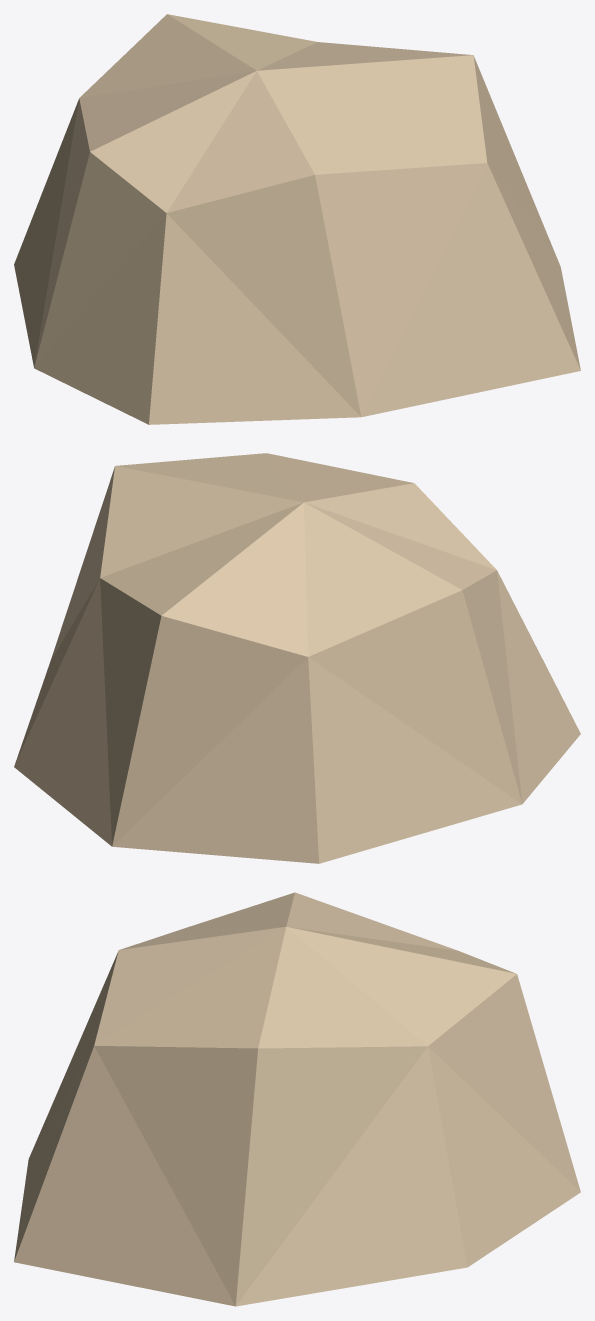
The model's file is SM_Env_Pebble_01.fbx.
The picture shows the model from 3 angles, top to bottom: view 1: azimuth 30°, elevation 25°; view 2: azimuth 150°, elevation 25°; view 3: azimuth 270°, elevation 25°; orthographic projection.
Parts seen in each view (by area): view 1: SM_Env_Pebble_01; view 2: SM_Env_Pebble_01; view 3: SM_Env_Pebble_01.
Part boxes in pixels (x1,y1,x2,y2): SM_Env_Pebble_01: (14, 14, 580, 424); SM_Env_Pebble_01: (14, 453, 580, 863); SM_Env_Pebble_01: (14, 892, 580, 1306).
Size of the model in its own units: 0.00207 by 0.000973 by 0.00204.
Materials: 1 (1 with a texture image).
